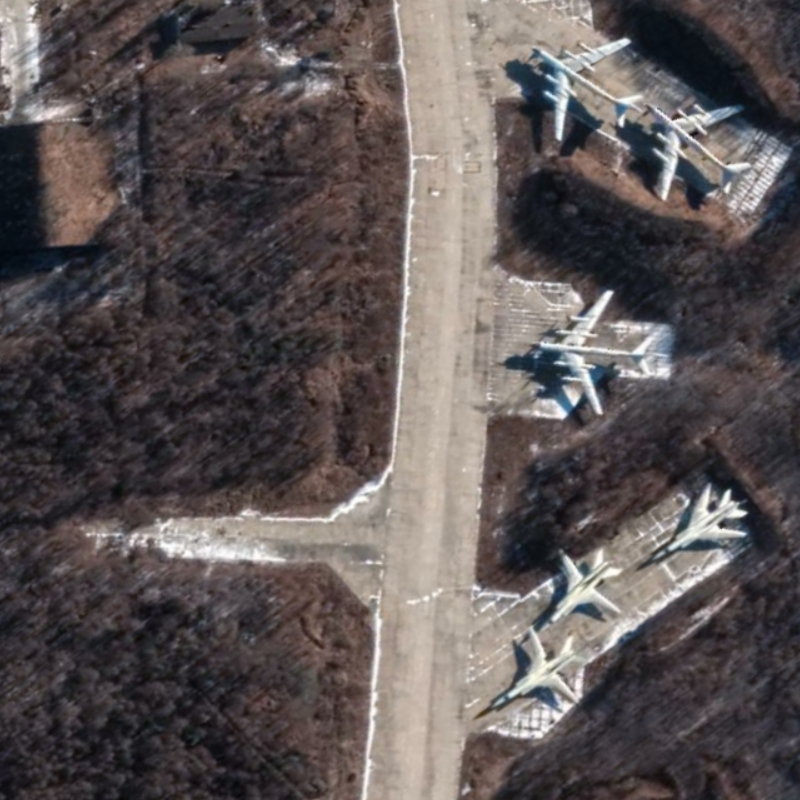A12: (485, 624, 592, 712), (649, 479, 750, 563), (533, 545, 627, 635)
A17: (521, 283, 664, 421), (521, 30, 646, 146), (640, 94, 756, 202)
